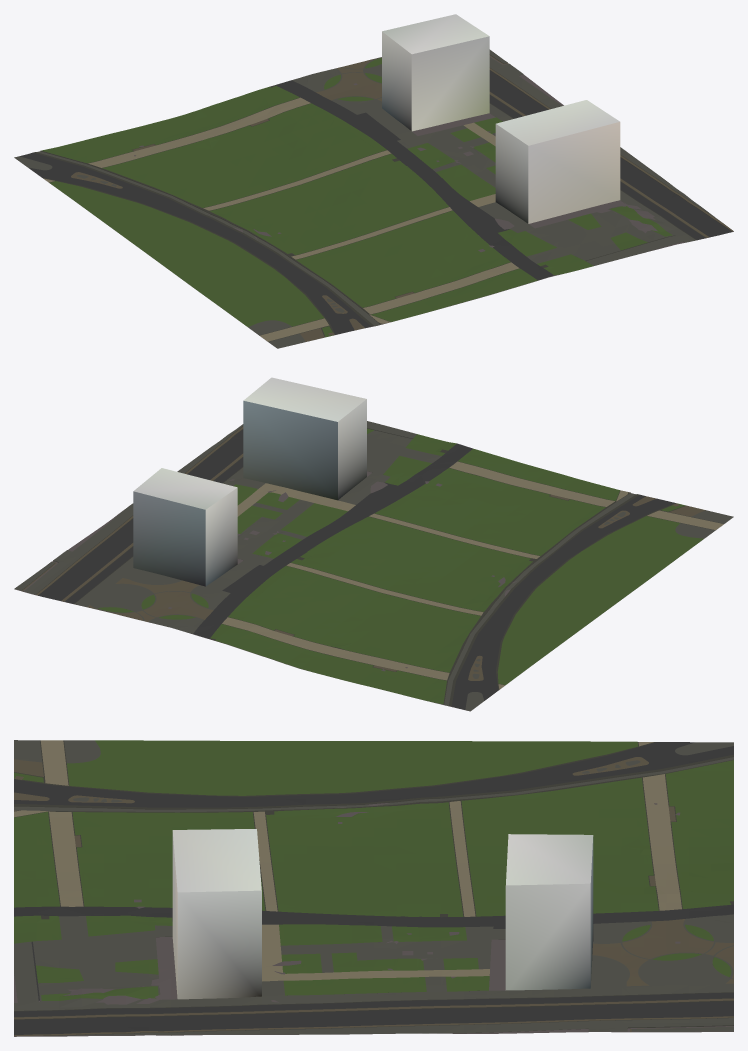
3 views of the same model, one above another, from view 1: azimuth 30°, elevation 25°; view 2: azimuth 150°, elevation 25°; view 3: azimuth 270°, elevation 25° (orthographic). The views are drawn at different scales.
Parts seen in each view (by area): view 1: c_m07_m06; view 2: c_m07_m06; view 3: c_m07_m06.
Part boxes in pixels (box(x1,y1,x2,y2)): c_m07_m06: box(14, 14, 733, 348); c_m07_m06: box(14, 377, 733, 711); c_m07_m06: box(14, 740, 733, 1036).
Bounding box in the file's own units: 128 × 23.33 × 128.
